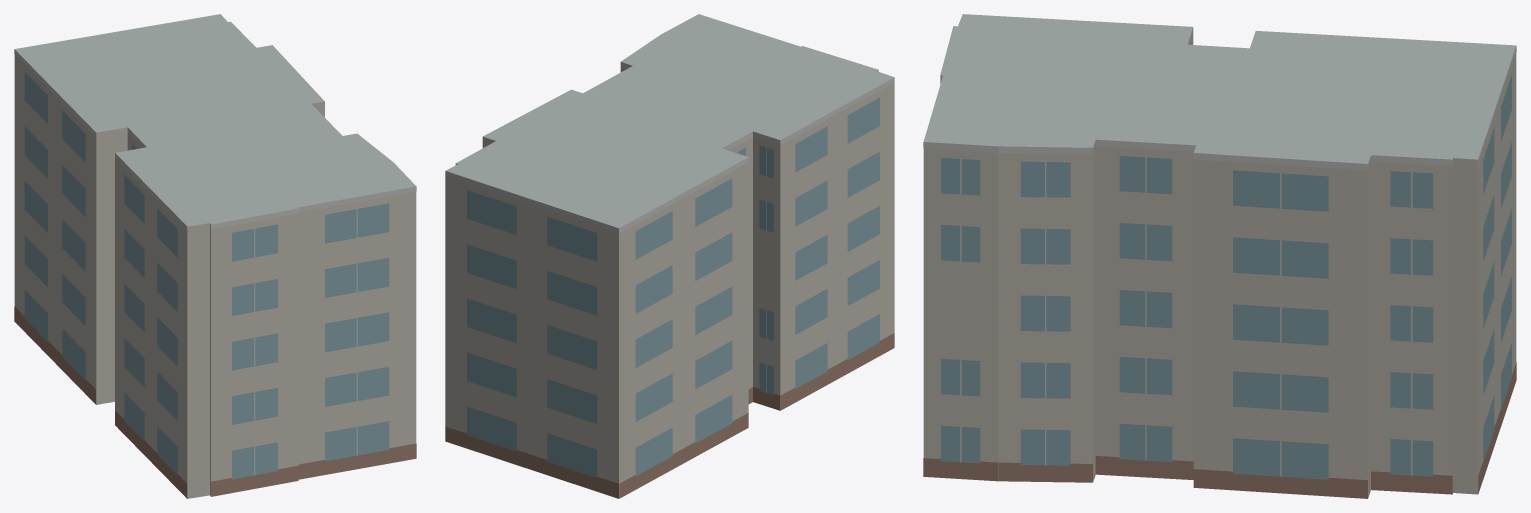
File: survey-upis-32669388.glb
The picture shows the model from 3 angles, left to right: view 1: azimuth 30°, elevation 25°; view 2: azimuth 150°, elevation 25°; view 3: azimuth 270°, elevation 25°; orthographic projection. The views are drawn at different scales.
Visible parts, largest first — view 1: survey-upis-32669388.tmp; view 2: survey-upis-32669388.tmp; view 3: survey-upis-32669388.tmp.
Part boxes in pixels (x1,y1,x2,y2): survey-upis-32669388.tmp: (14,14,416,498); survey-upis-32669388.tmp: (445,14,894,498); survey-upis-32669388.tmp: (923,14,1516,498).
Size of the model in its own units: 12.21 by 12.7 by 20.39.
